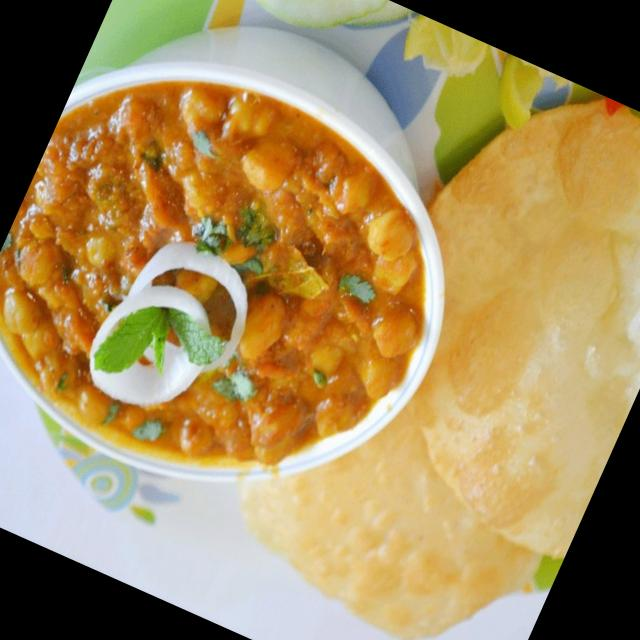Bhatura: (318, 49, 640, 564), (210, 349, 581, 640)
Chole: (0, 22, 487, 535)
